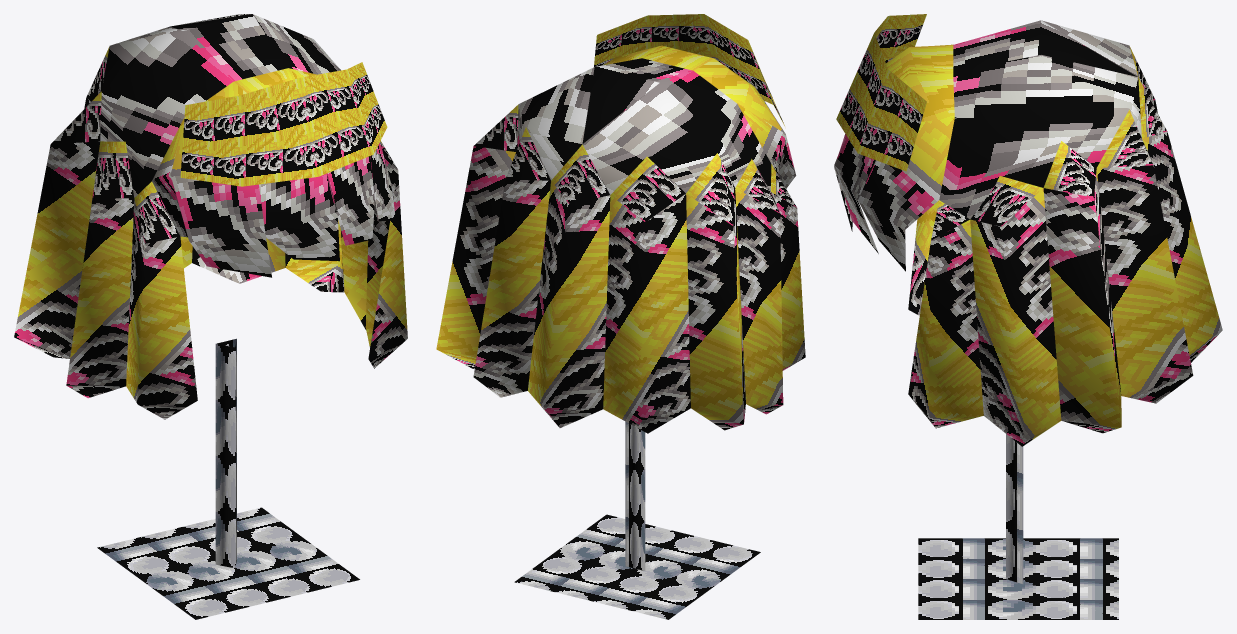
The model's file is 2917head070_c.gltf.
3 renders of one model, left to right at view 1: azimuth 30°, elevation 25°; view 2: azimuth 150°, elevation 25°; view 3: azimuth 270°, elevation 25°, orthographic. The views are drawn at different scales.
Visible parts, largest first — view 1: 2917head070_c; view 2: 2917head070_c; view 3: 2917head070_c.
Part boxes in pixels (x1,y1,x2,y2): 2917head070_c: (14,14,407,619); 2917head070_c: (436,14,805,619); 2917head070_c: (834,14,1222,619).
Bounding box in the file's own units: 0.9204 × 1.45 × 0.9297.
2 materials, 2 textured.
